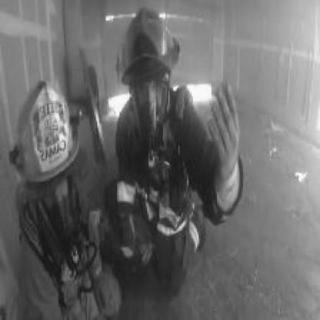other: (106, 15, 186, 81)
